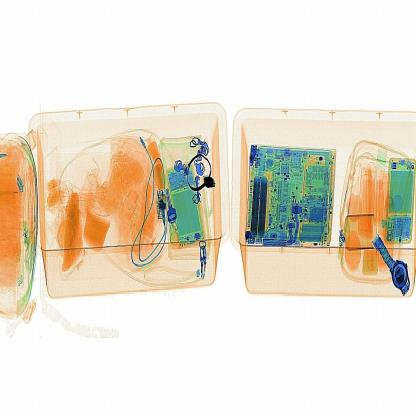scissors: (195, 170, 223, 198)
